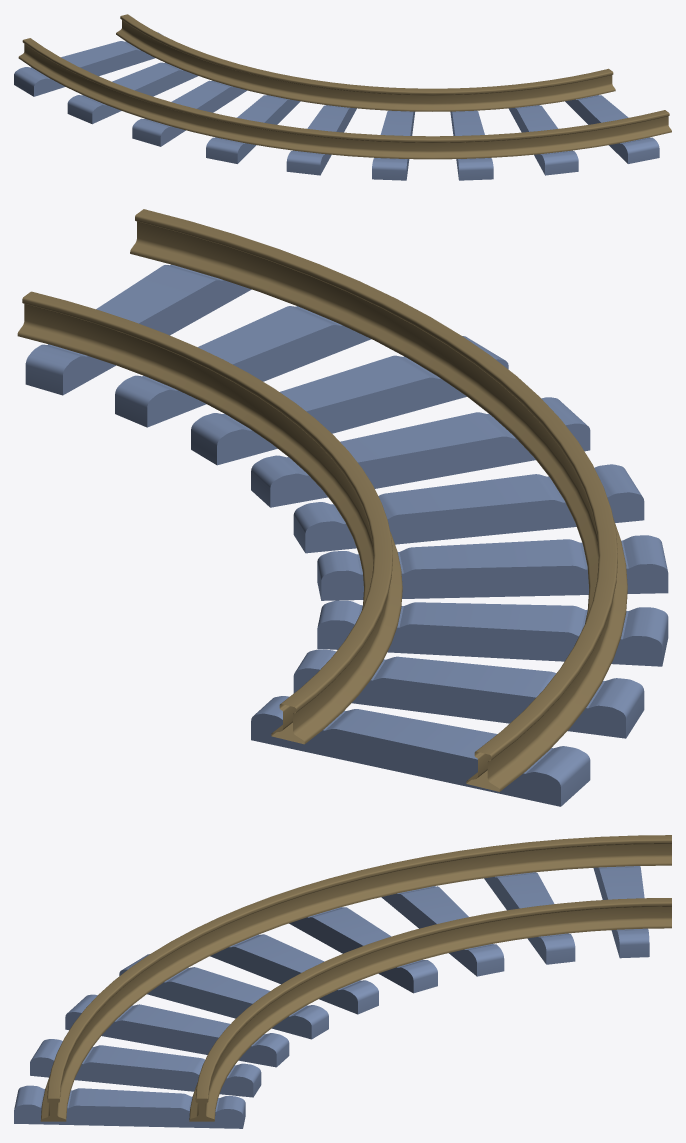
File: Rails C.fbx
3 renders of one model, top to bottom at view 1: azimuth 30°, elevation 25°; view 2: azimuth 150°, elevation 25°; view 3: azimuth 270°, elevation 25°, orthographic. The views are drawn at different scales.
Visible parts, largest first — view 1: Rails C; view 2: Rails C; view 3: Rails C.
Part boxes in pixels (x1,y1,x2,y2): Rails C: (14,14,671,180); Rails C: (17,209,668,806); Rails C: (14,835,671,1128).
Size of the model in its own units: 978 by 65.15 by 978.
